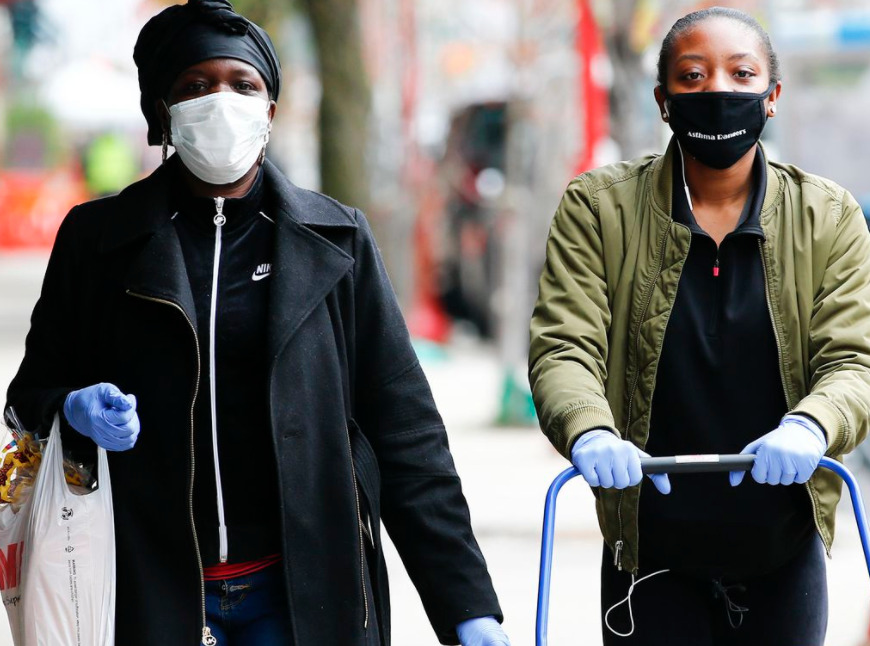Bad: (5, 1, 870, 449)
